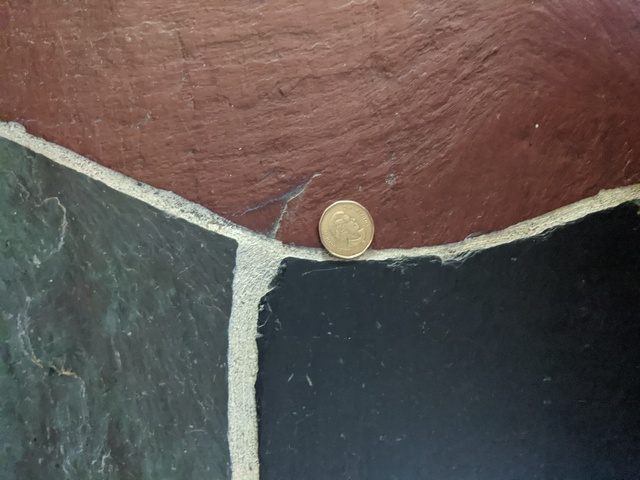loonie: (316, 196, 381, 262)
